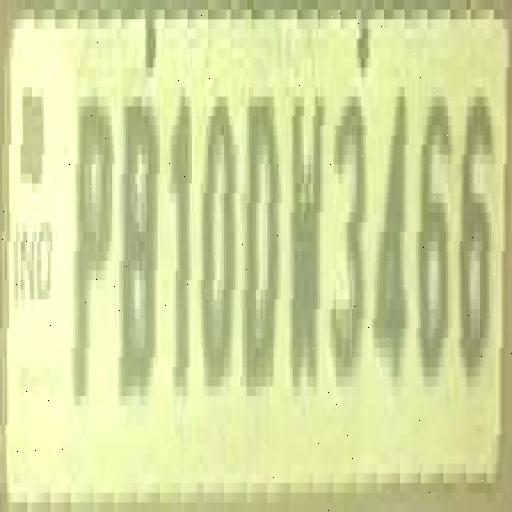number plate: (13, 19, 512, 473)
